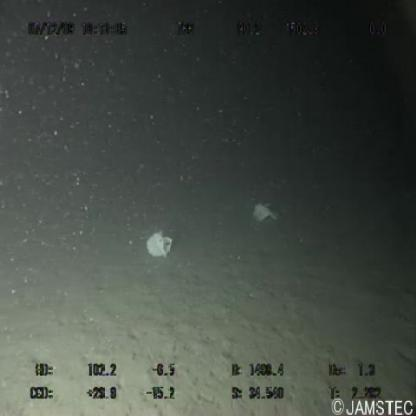Rác: (143, 225, 178, 259), (248, 196, 285, 228)
